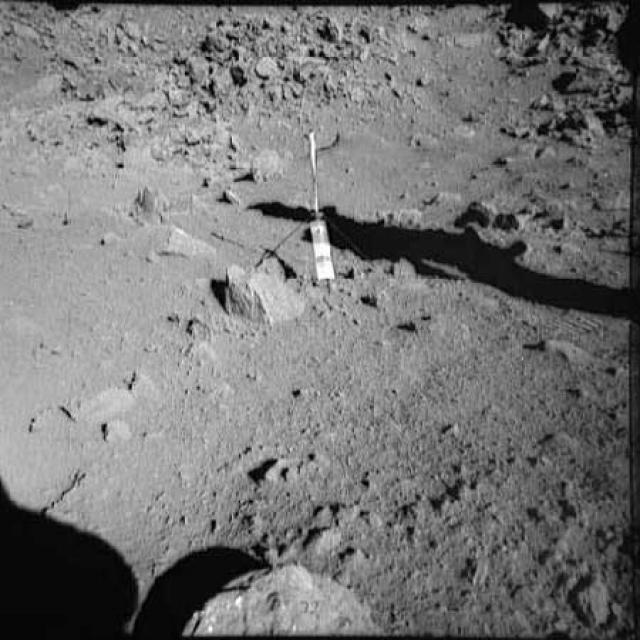artifact: (292, 124, 356, 308)
rock: (169, 559, 383, 639), (208, 252, 302, 322), (139, 215, 207, 261), (533, 321, 589, 372), (178, 340, 228, 381), (459, 186, 500, 230)
